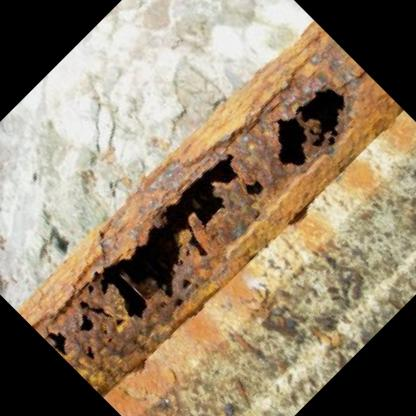burst: (88, 177, 258, 316), (260, 78, 356, 173)
